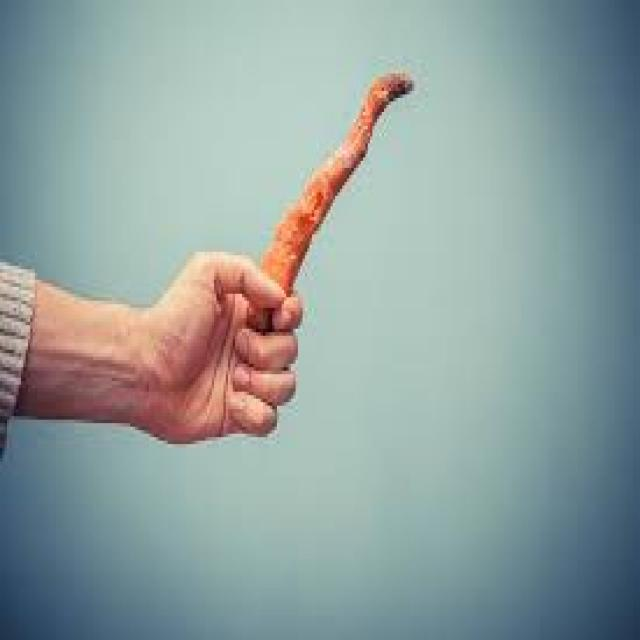Stale_Carrot: (237, 48, 458, 310)
